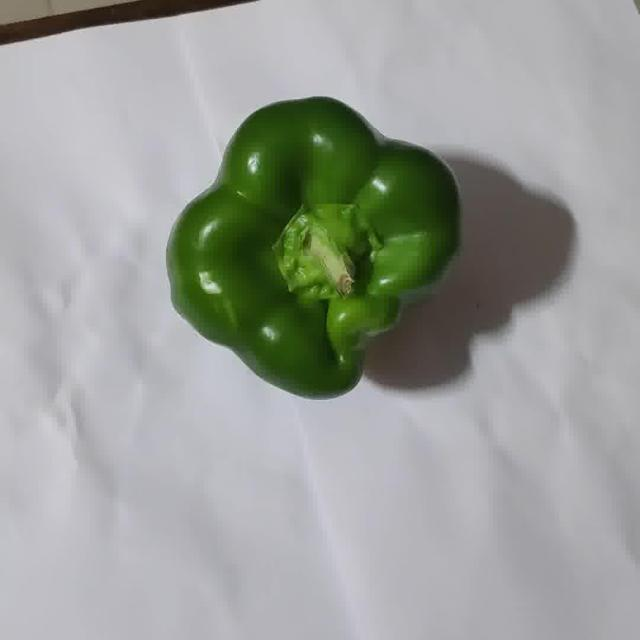Bell Pepper: (166, 97, 459, 398)
